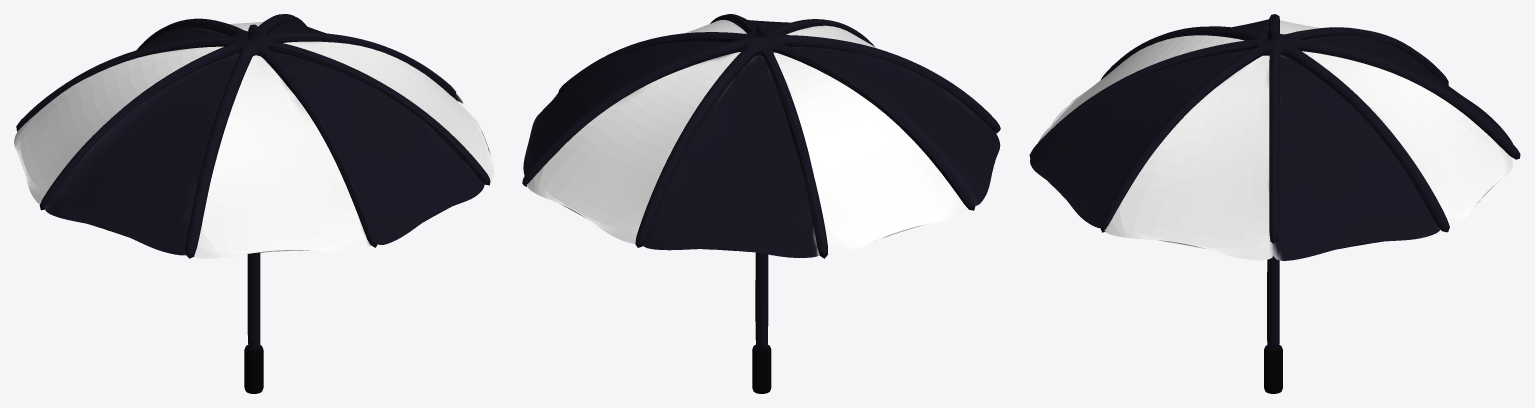
Rendered from rain.glb.
3 views of the same model, side by side, from view 1: azimuth 30°, elevation 25°; view 2: azimuth 150°, elevation 25°; view 3: azimuth 270°, elevation 25° (orthographic).
Parts seen in each view (by area): view 1: kasankurosiro1_1; view 2: kasankurosiro1_1; view 3: kasankurosiro1_1.
Boxes of the visible parts, x1,y1,x2,y2 form: kasankurosiro1_1: (14, 14, 493, 393); kasankurosiro1_1: (522, 14, 1000, 393); kasankurosiro1_1: (1029, 14, 1520, 393).
Size of the model in its own units: 4.65 by 3.84 by 4.68.
Materials: 1 (1 with a texture image).
